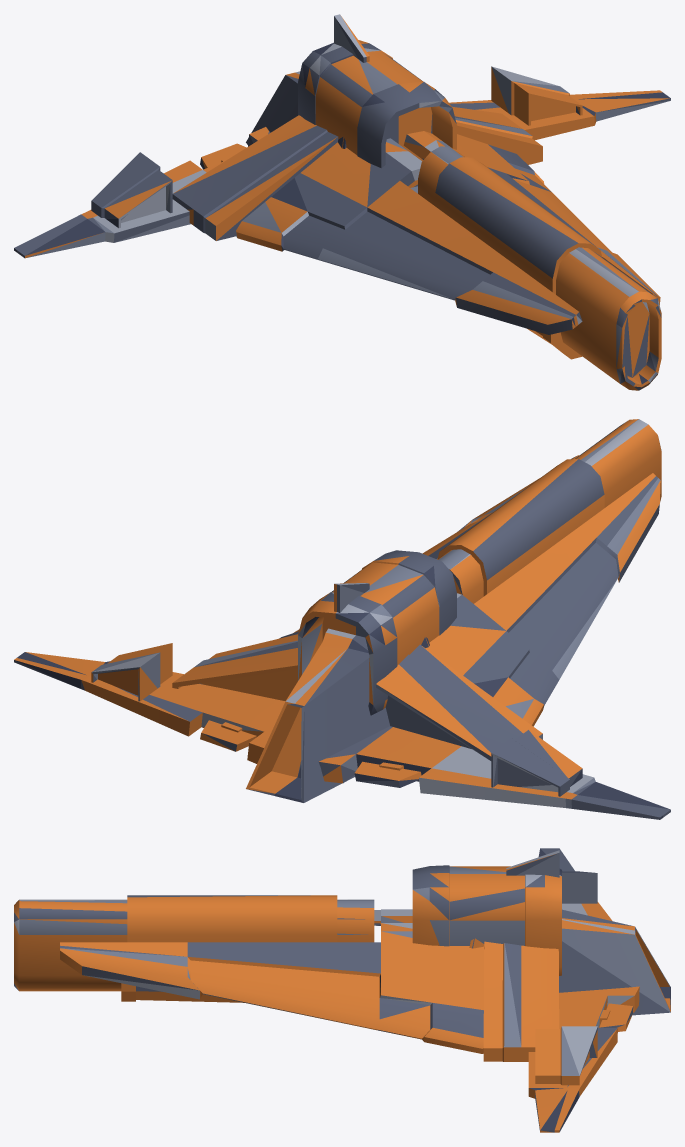
File: wreck.glb
3 renders of one model, top to bottom at view 1: azimuth 30°, elevation 25°; view 2: azimuth 150°, elevation 25°; view 3: azimuth 270°, elevation 25°, orthographic. The views are drawn at different scales.
Visible parts, largest first — view 1: Omen; view 2: Omen; view 3: Omen.
Part boxes in pixels (x1=…): Omen: x1=14, y1=14, x2=670, y2=390; Omen: x1=14, y1=419, x2=670, y2=819; Omen: x1=14, y1=848, x2=670, y2=1132.
Bounding box in the file's own units: 10 × 2.46 × 9.84.
